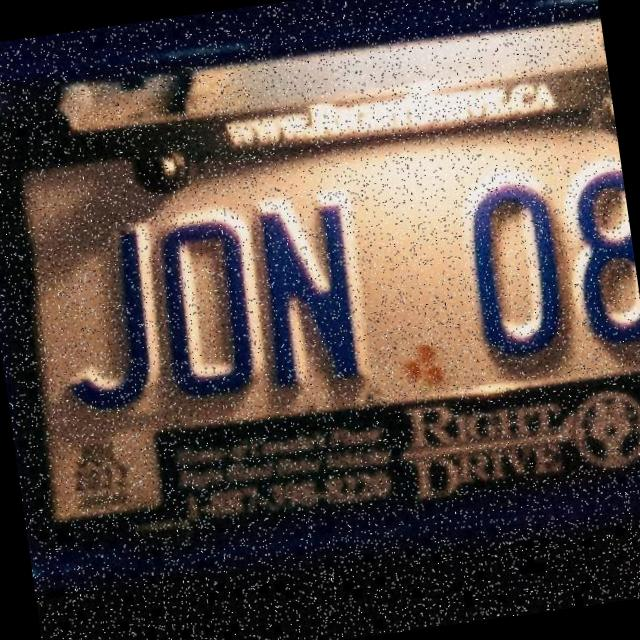LicensePlate: (0, 51, 640, 558)
